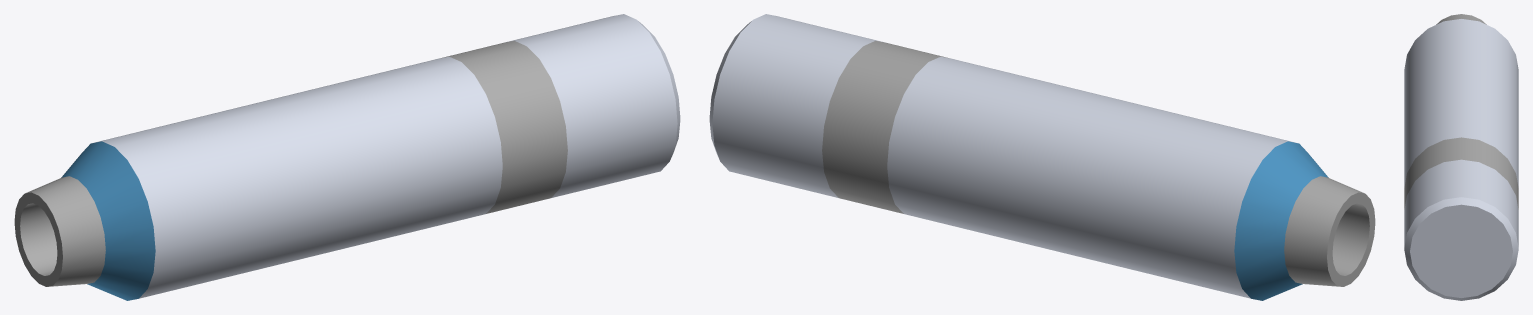
Rendered from lazer.fbx.
3 views of the same model, side by side, from view 1: azimuth 30°, elevation 25°; view 2: azimuth 150°, elevation 25°; view 3: azimuth 270°, elevation 25° (orthographic). The views are drawn at different scales.
Visible parts, largest first — view 1: lazer; view 2: lazer; view 3: lazer.
Boxes of the visible parts, x1,y1,x2,y2 form: lazer: (14,14,680,300); lazer: (709,14,1375,300); lazer: (1404,14,1518,300).
Size of the model in its own units: 1.07 by 0.2509 by 0.2509.
